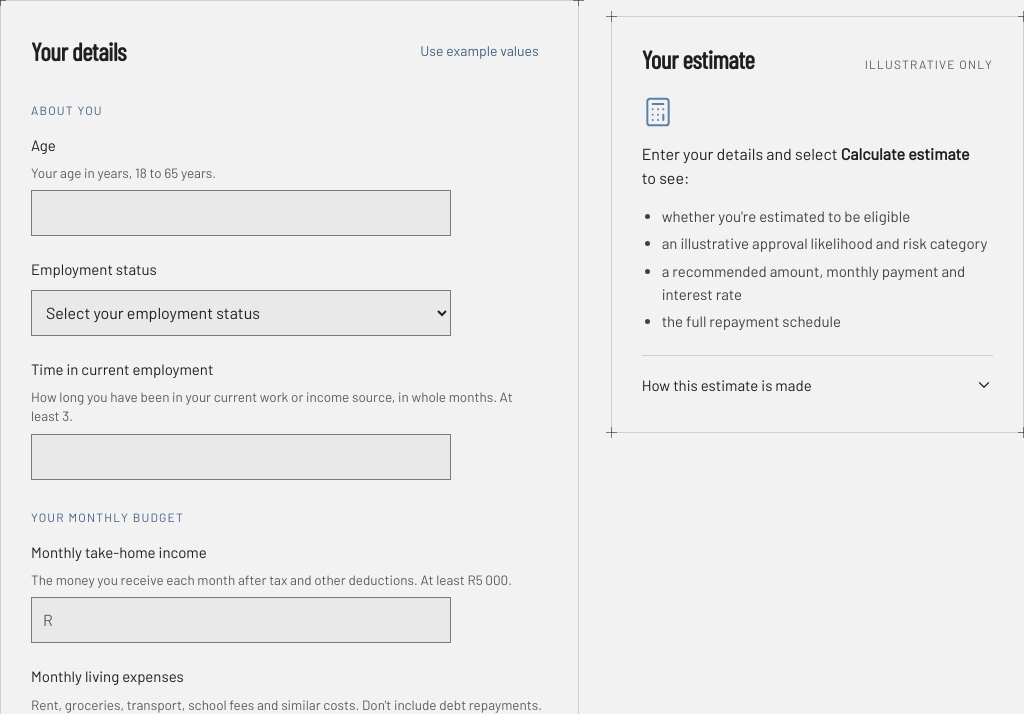
Scenario: a calculation › maps a rejection from the API onto the fields
Click the button "Use example values".
click(480, 51)  # box [411,29,548,73]
(page scrolled)
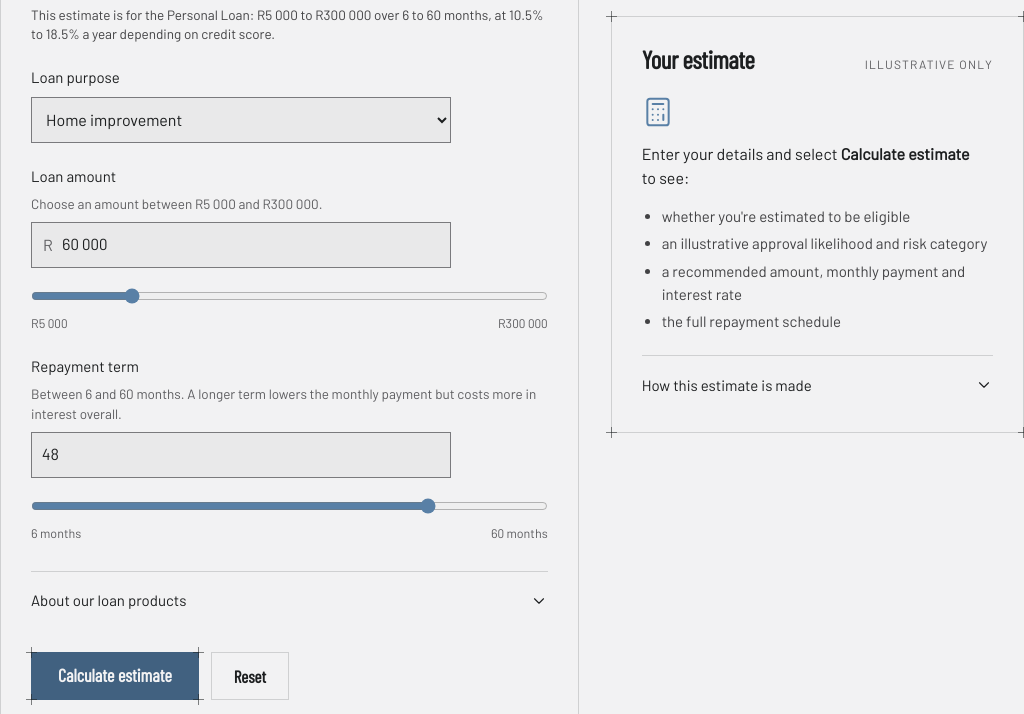
Click the button "Calculate estimate".
click(115, 676)  # box [31,652,199,700]
(page scrolled)
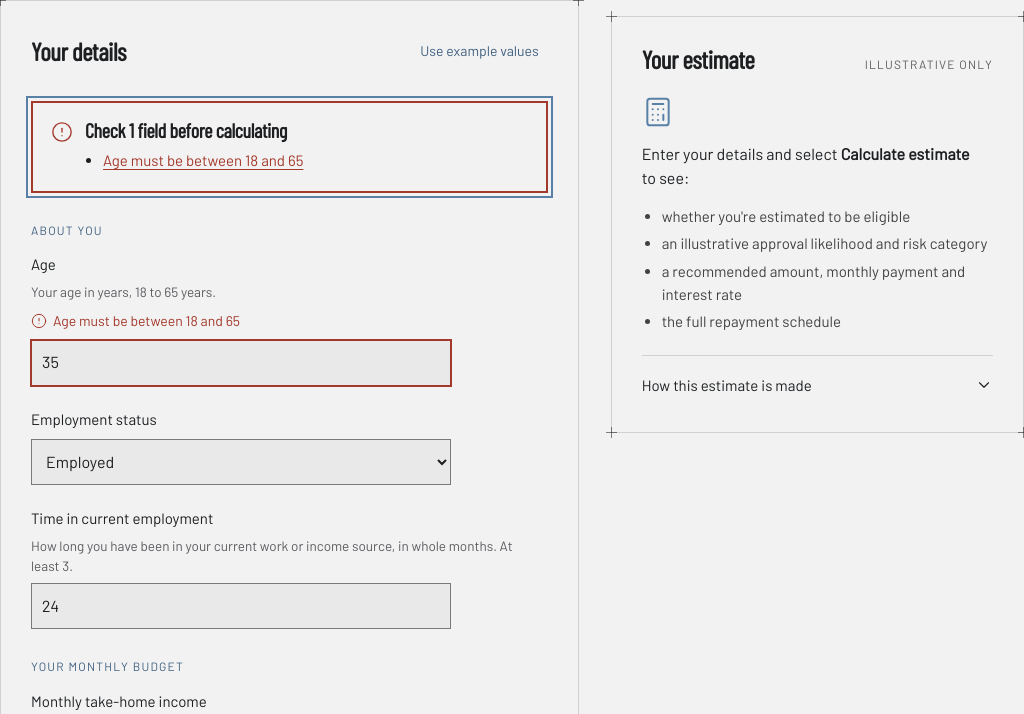
Expected: the message shows "Age must be between 18 and 65", [103,147,303,175]
